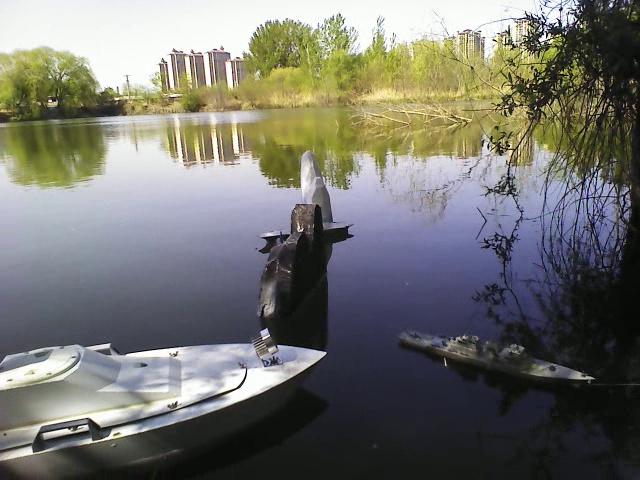aircraft_carrier: (258, 220, 360, 242)
boat: (7, 338, 331, 473)
iceberg: (296, 148, 342, 219)
rock: (257, 201, 331, 316)
warship: (397, 324, 600, 388)
